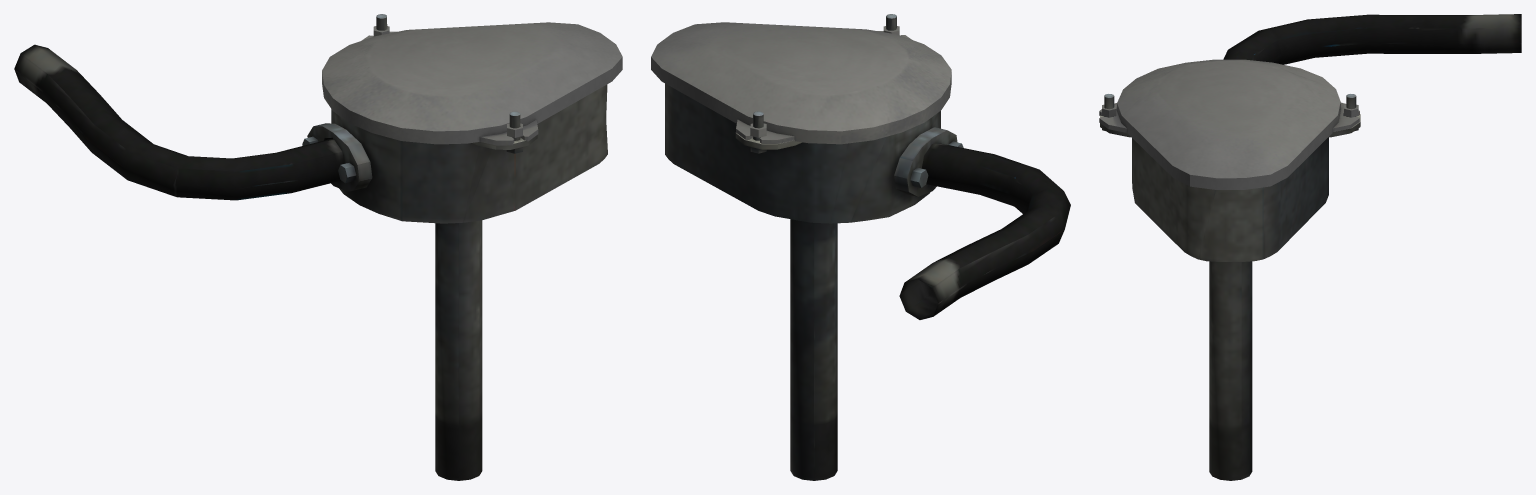
The model's file is mufta_temp.fbx.
3 renders of one model, left to right at view 1: azimuth 30°, elevation 25°; view 2: azimuth 150°, elevation 25°; view 3: azimuth 270°, elevation 25°, orthographic. The views are drawn at different scales.
Parts seen in each view (by area): view 1: mufta, mufta_toolsren; view 2: mufta, mufta_toolsren; view 3: mufta, mufta_toolsren.
Part boxes in pixels (x1,y1,x2,y2): mufta: (14,14,607,480); mufta_toolsren: (322,22,622,145); mufta: (665,14,1070,480); mufta_toolsren: (651,22,951,144); mufta: (1100,14,1521,480); mufta_toolsren: (1099,59,1359,189).
Bounding box in the file's own units: 0.4865 × 0.4316 × 0.4405.
